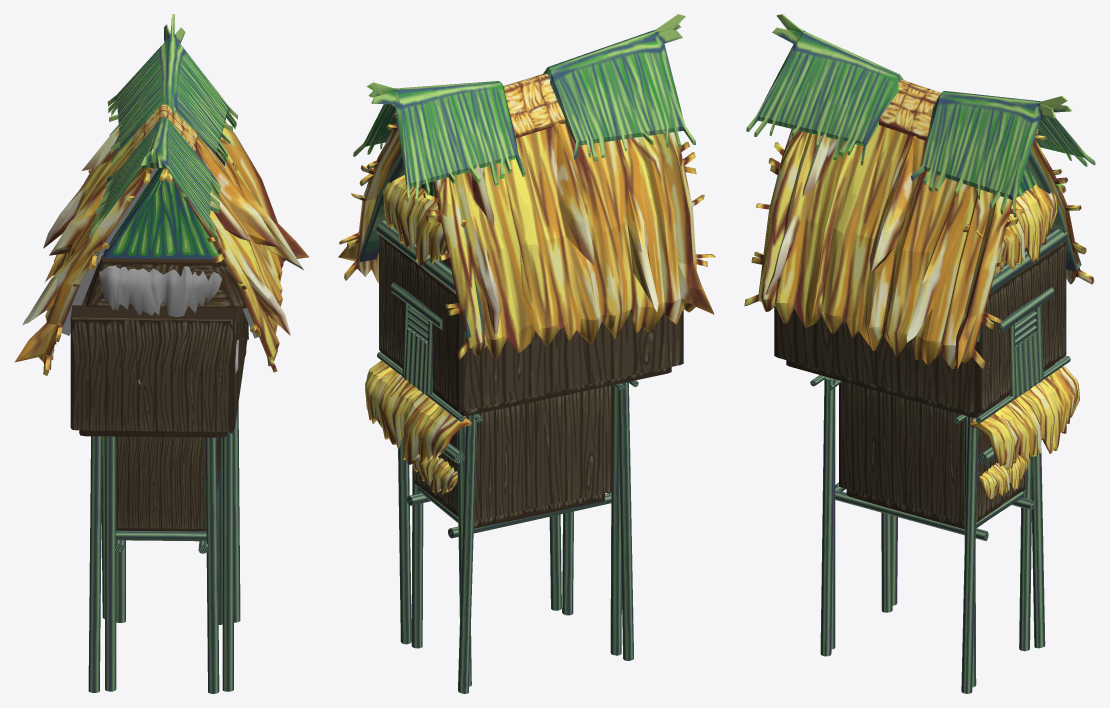
File: Maison hauteur.FBX
3 renders of one model, left to right at view 1: azimuth 30°, elevation 25°; view 2: azimuth 150°, elevation 25°; view 3: azimuth 270°, elevation 25°, orthographic. The views are drawn at different scales.
Parts seen in each view (by area): view 1: maisonen hauteur; view 2: maisonen hauteur; view 3: maisonen hauteur.
Part boxes in pixels (x1=…): maisonen hauteur: x1=15, y1=14, x2=308, y2=693; maisonen hauteur: x1=338, y1=14, x2=715, y2=693; maisonen hauteur: x1=744, y1=14, x2=1095, y2=693.
Bounding box in the file's own units: 573 × 966 × 519.
